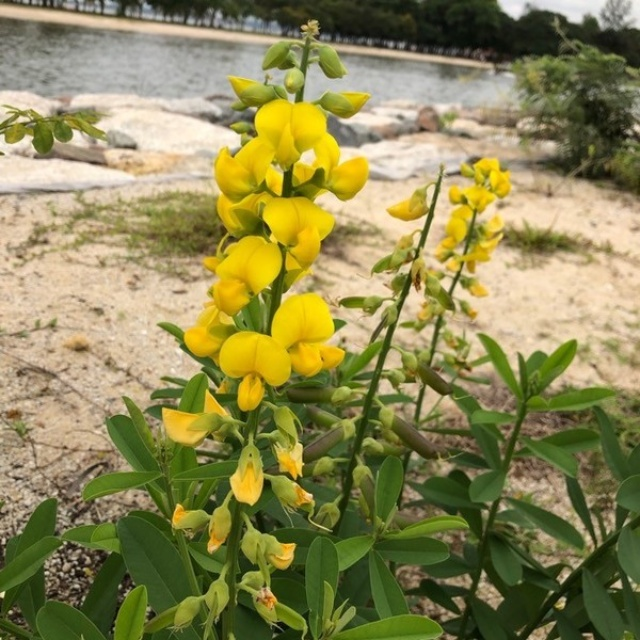obstacle: (357, 175, 586, 611), (144, 23, 306, 597)
